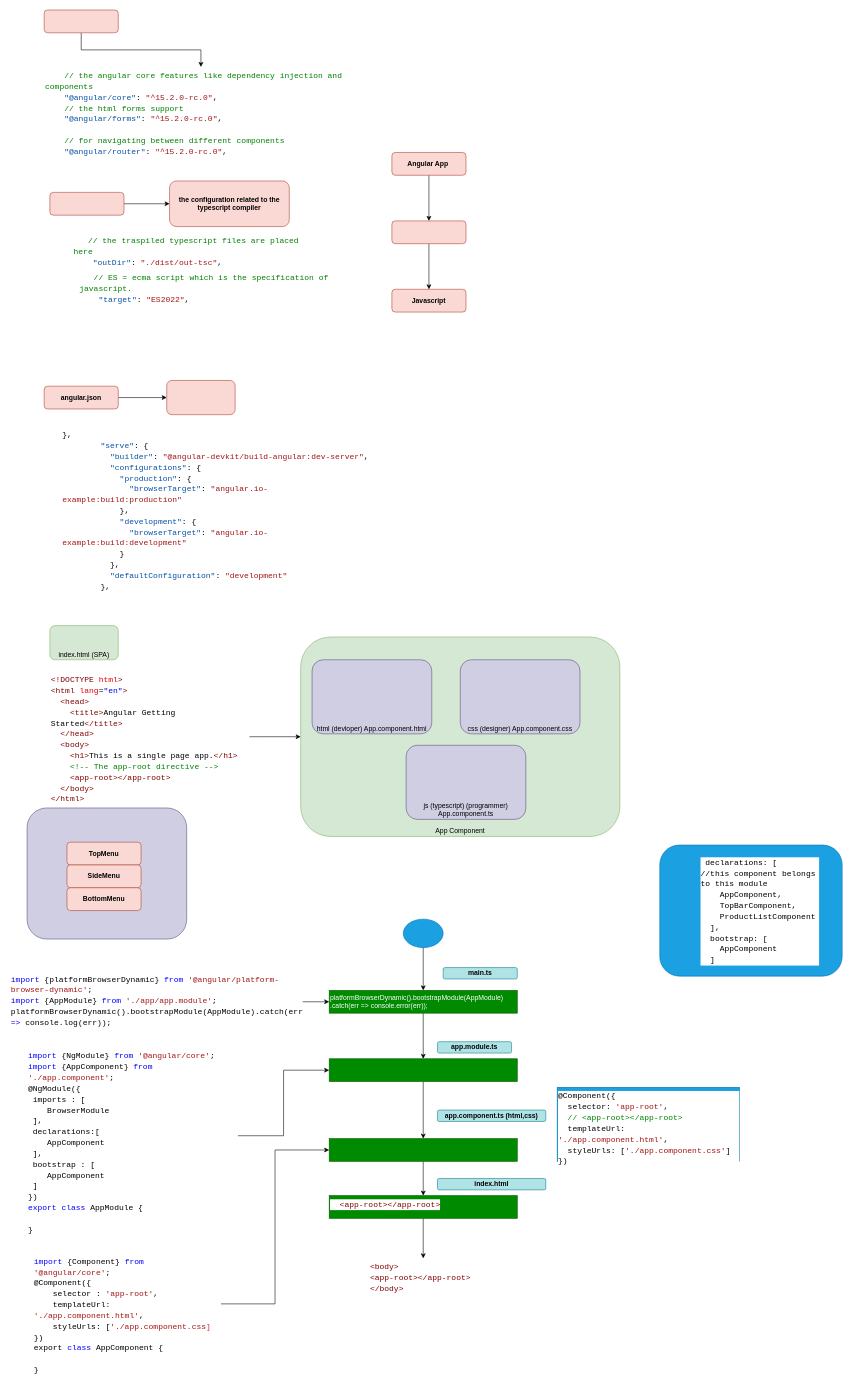
This 852x1386 diagram has some shape labels left out. Each missing label, with the box of its shape:
AppComponent (html,css,ts): (329, 1138, 517, 1161)
AppModule: (659, 844, 842, 976)
AppModule bootstraps the AppComponent: (329, 1058, 517, 1082)
Configuration of the angular application.: (166, 380, 235, 415)
Module: (27, 807, 187, 939)
package.json (dependencies): (44, 9, 118, 33)
Start: (403, 919, 443, 948)
tsconfig.json: (49, 192, 124, 215)
Typescript: (391, 220, 466, 244)
